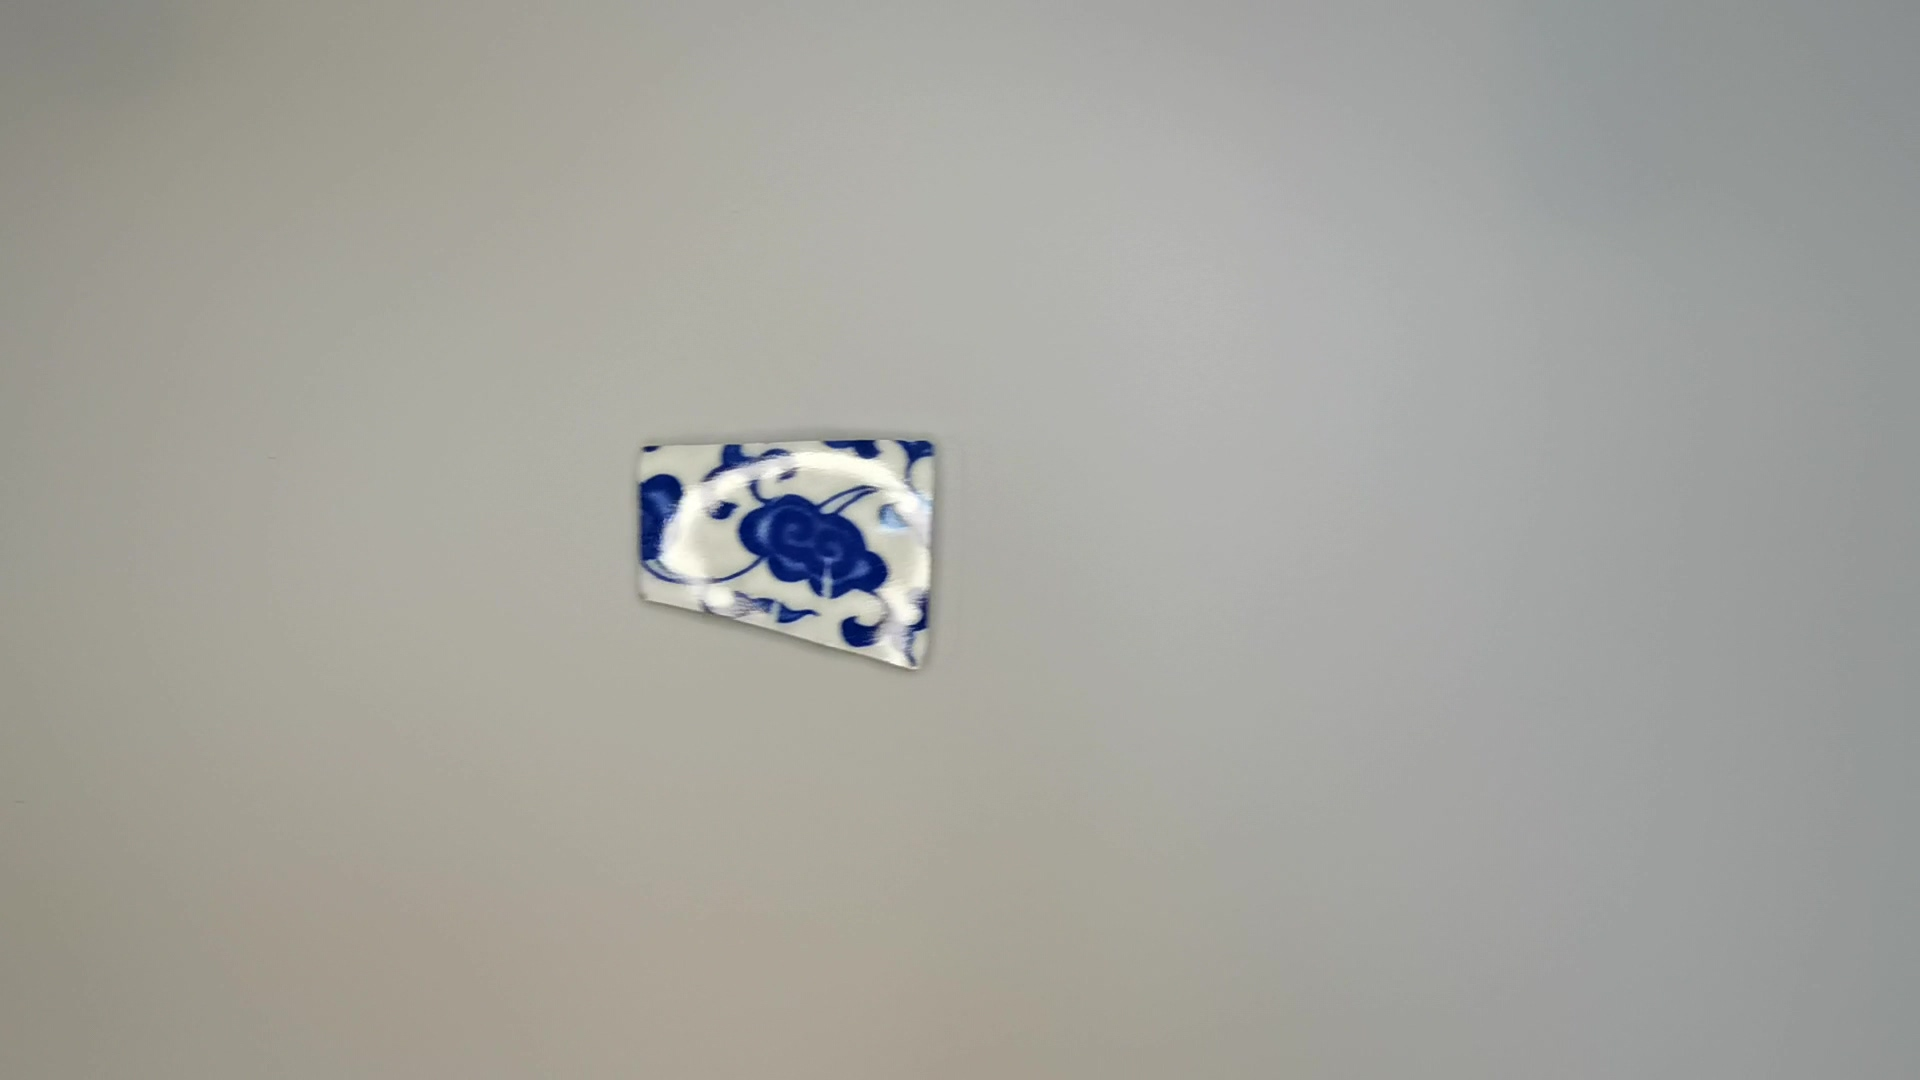ceramic: (626, 430, 955, 683)
